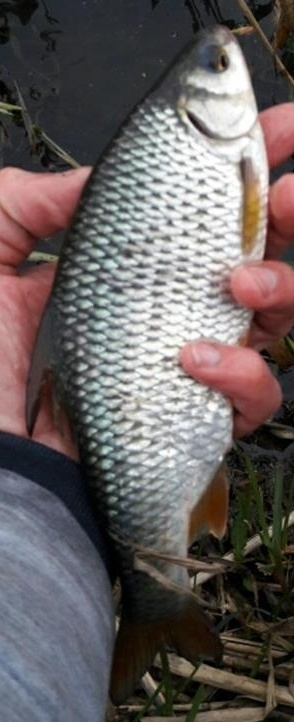Rutilus rutilus: (20, 20, 274, 702)
